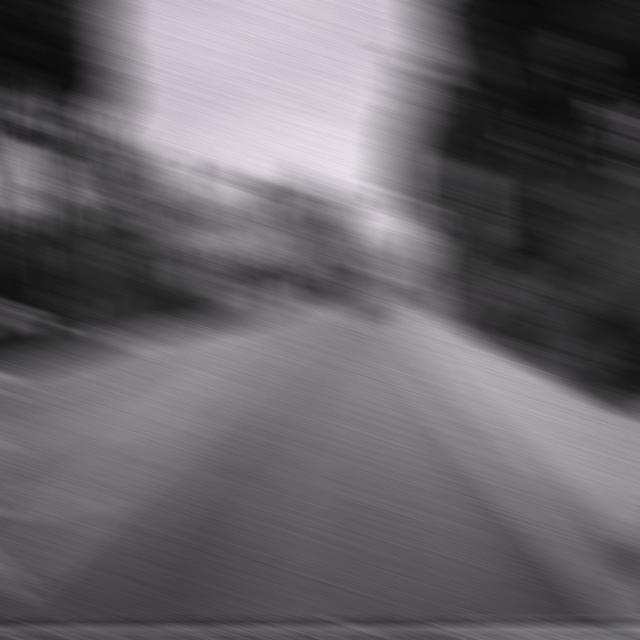speedLimit25: (448, 160, 492, 240)
